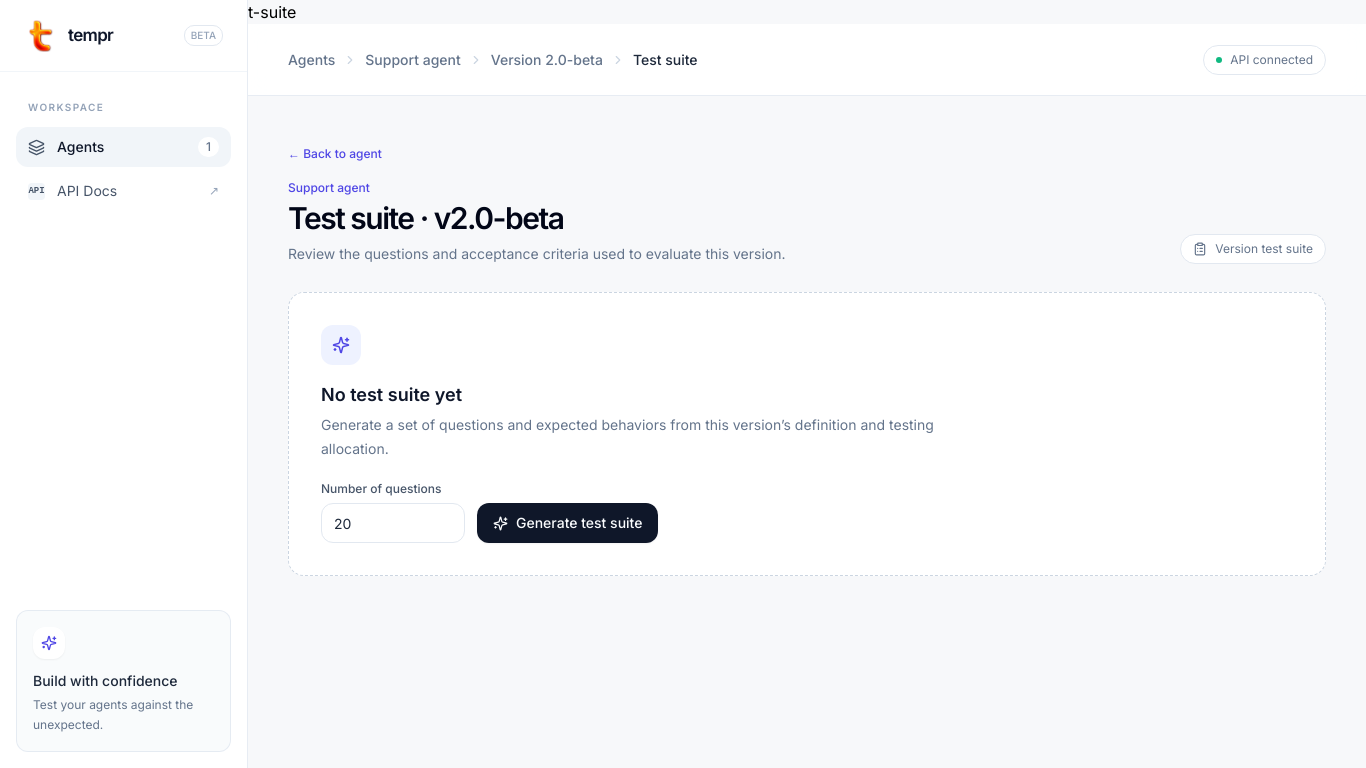
it: versioned agent workspace › classifies an unclassified version before generating its test suite
Click the button "Generate test suite". click: (568, 523)
box: left=477, top=503, right=658, bottom=543
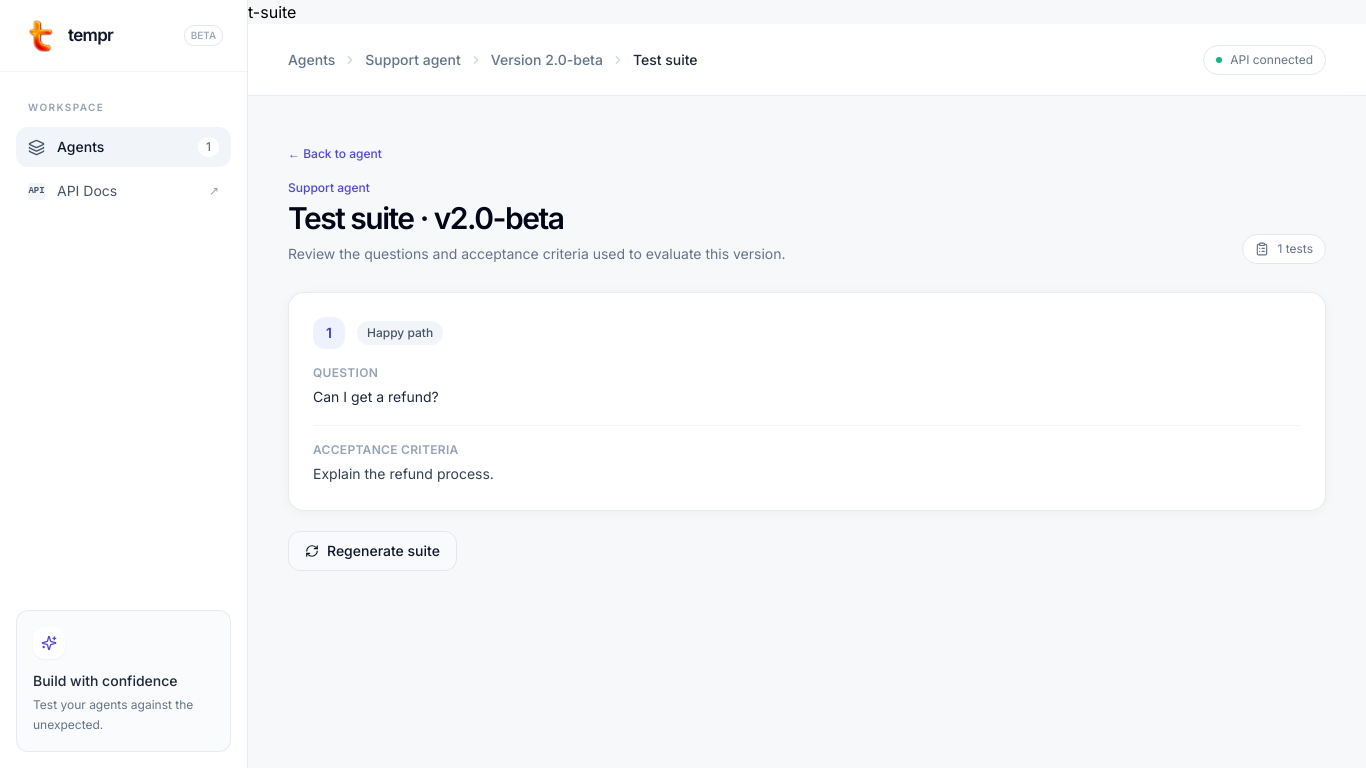
Expected: the text "Can I get a refund?" is shown, left=313, top=388, right=439, bottom=405
